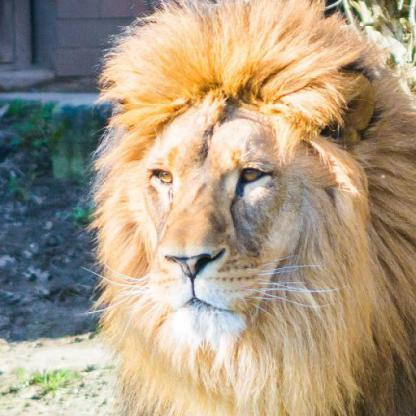lion: (104, 57, 370, 346)
